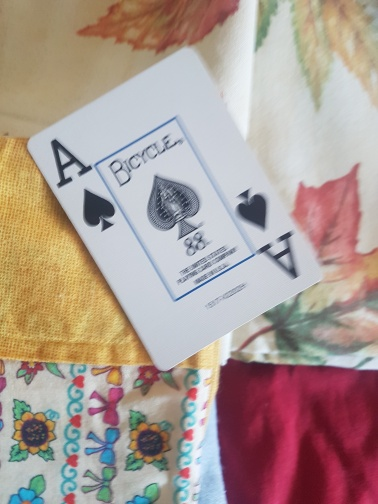ace: (26, 47, 323, 371)
